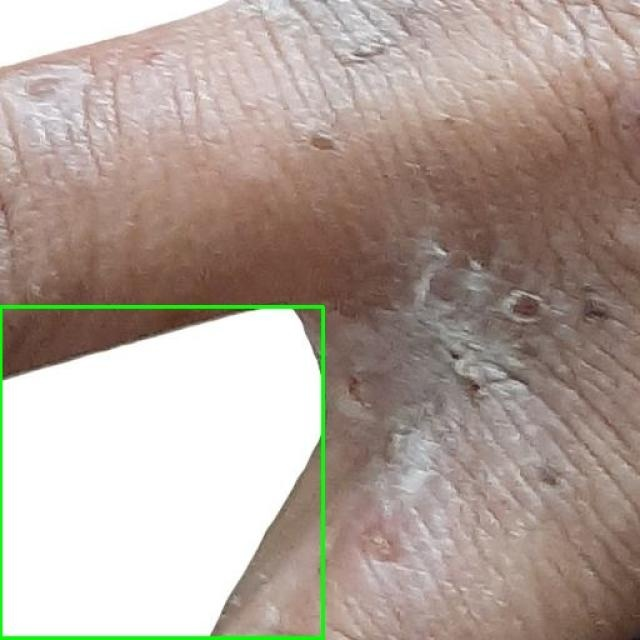Scabies: (0, 306, 324, 639)
